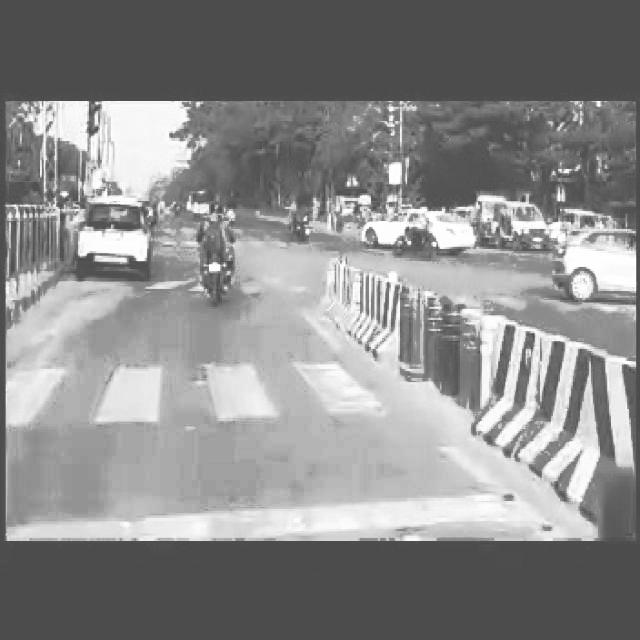Bike: (192, 198, 243, 308)
Car: (362, 200, 473, 264), (76, 187, 160, 271), (558, 222, 640, 300)
